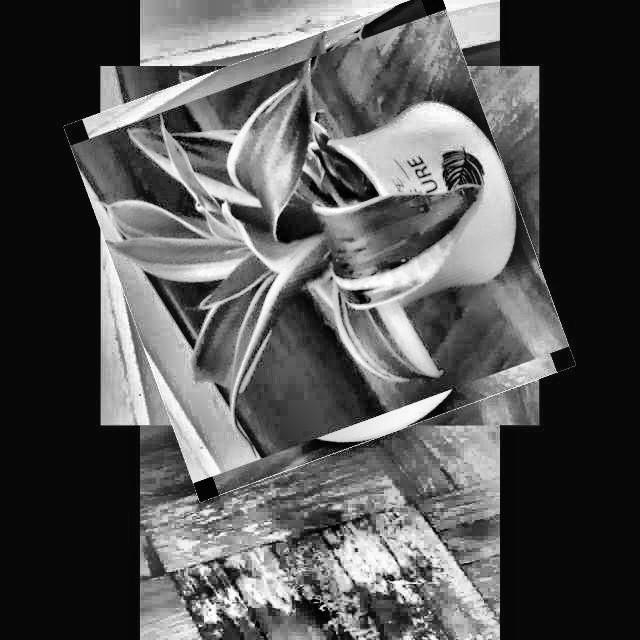plants: (92, 18, 548, 474)
